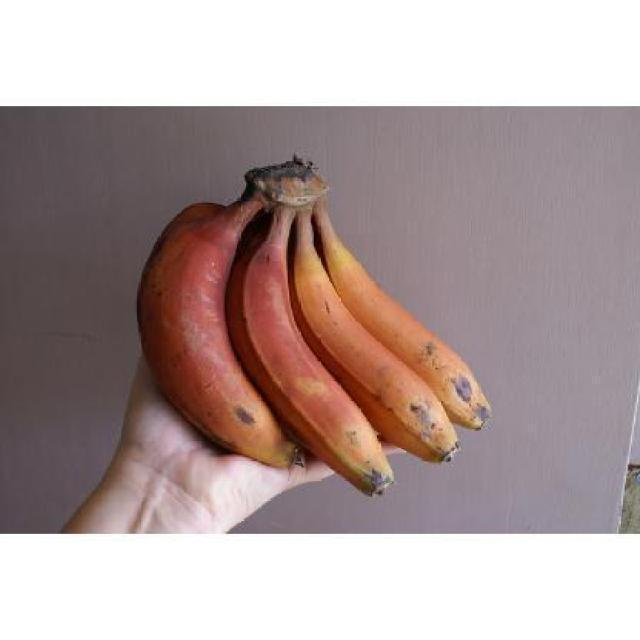Banana: (136, 176, 310, 473), (221, 200, 394, 498), (284, 202, 458, 466), (314, 190, 492, 428)
